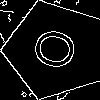O: (30, 25, 89, 76)
